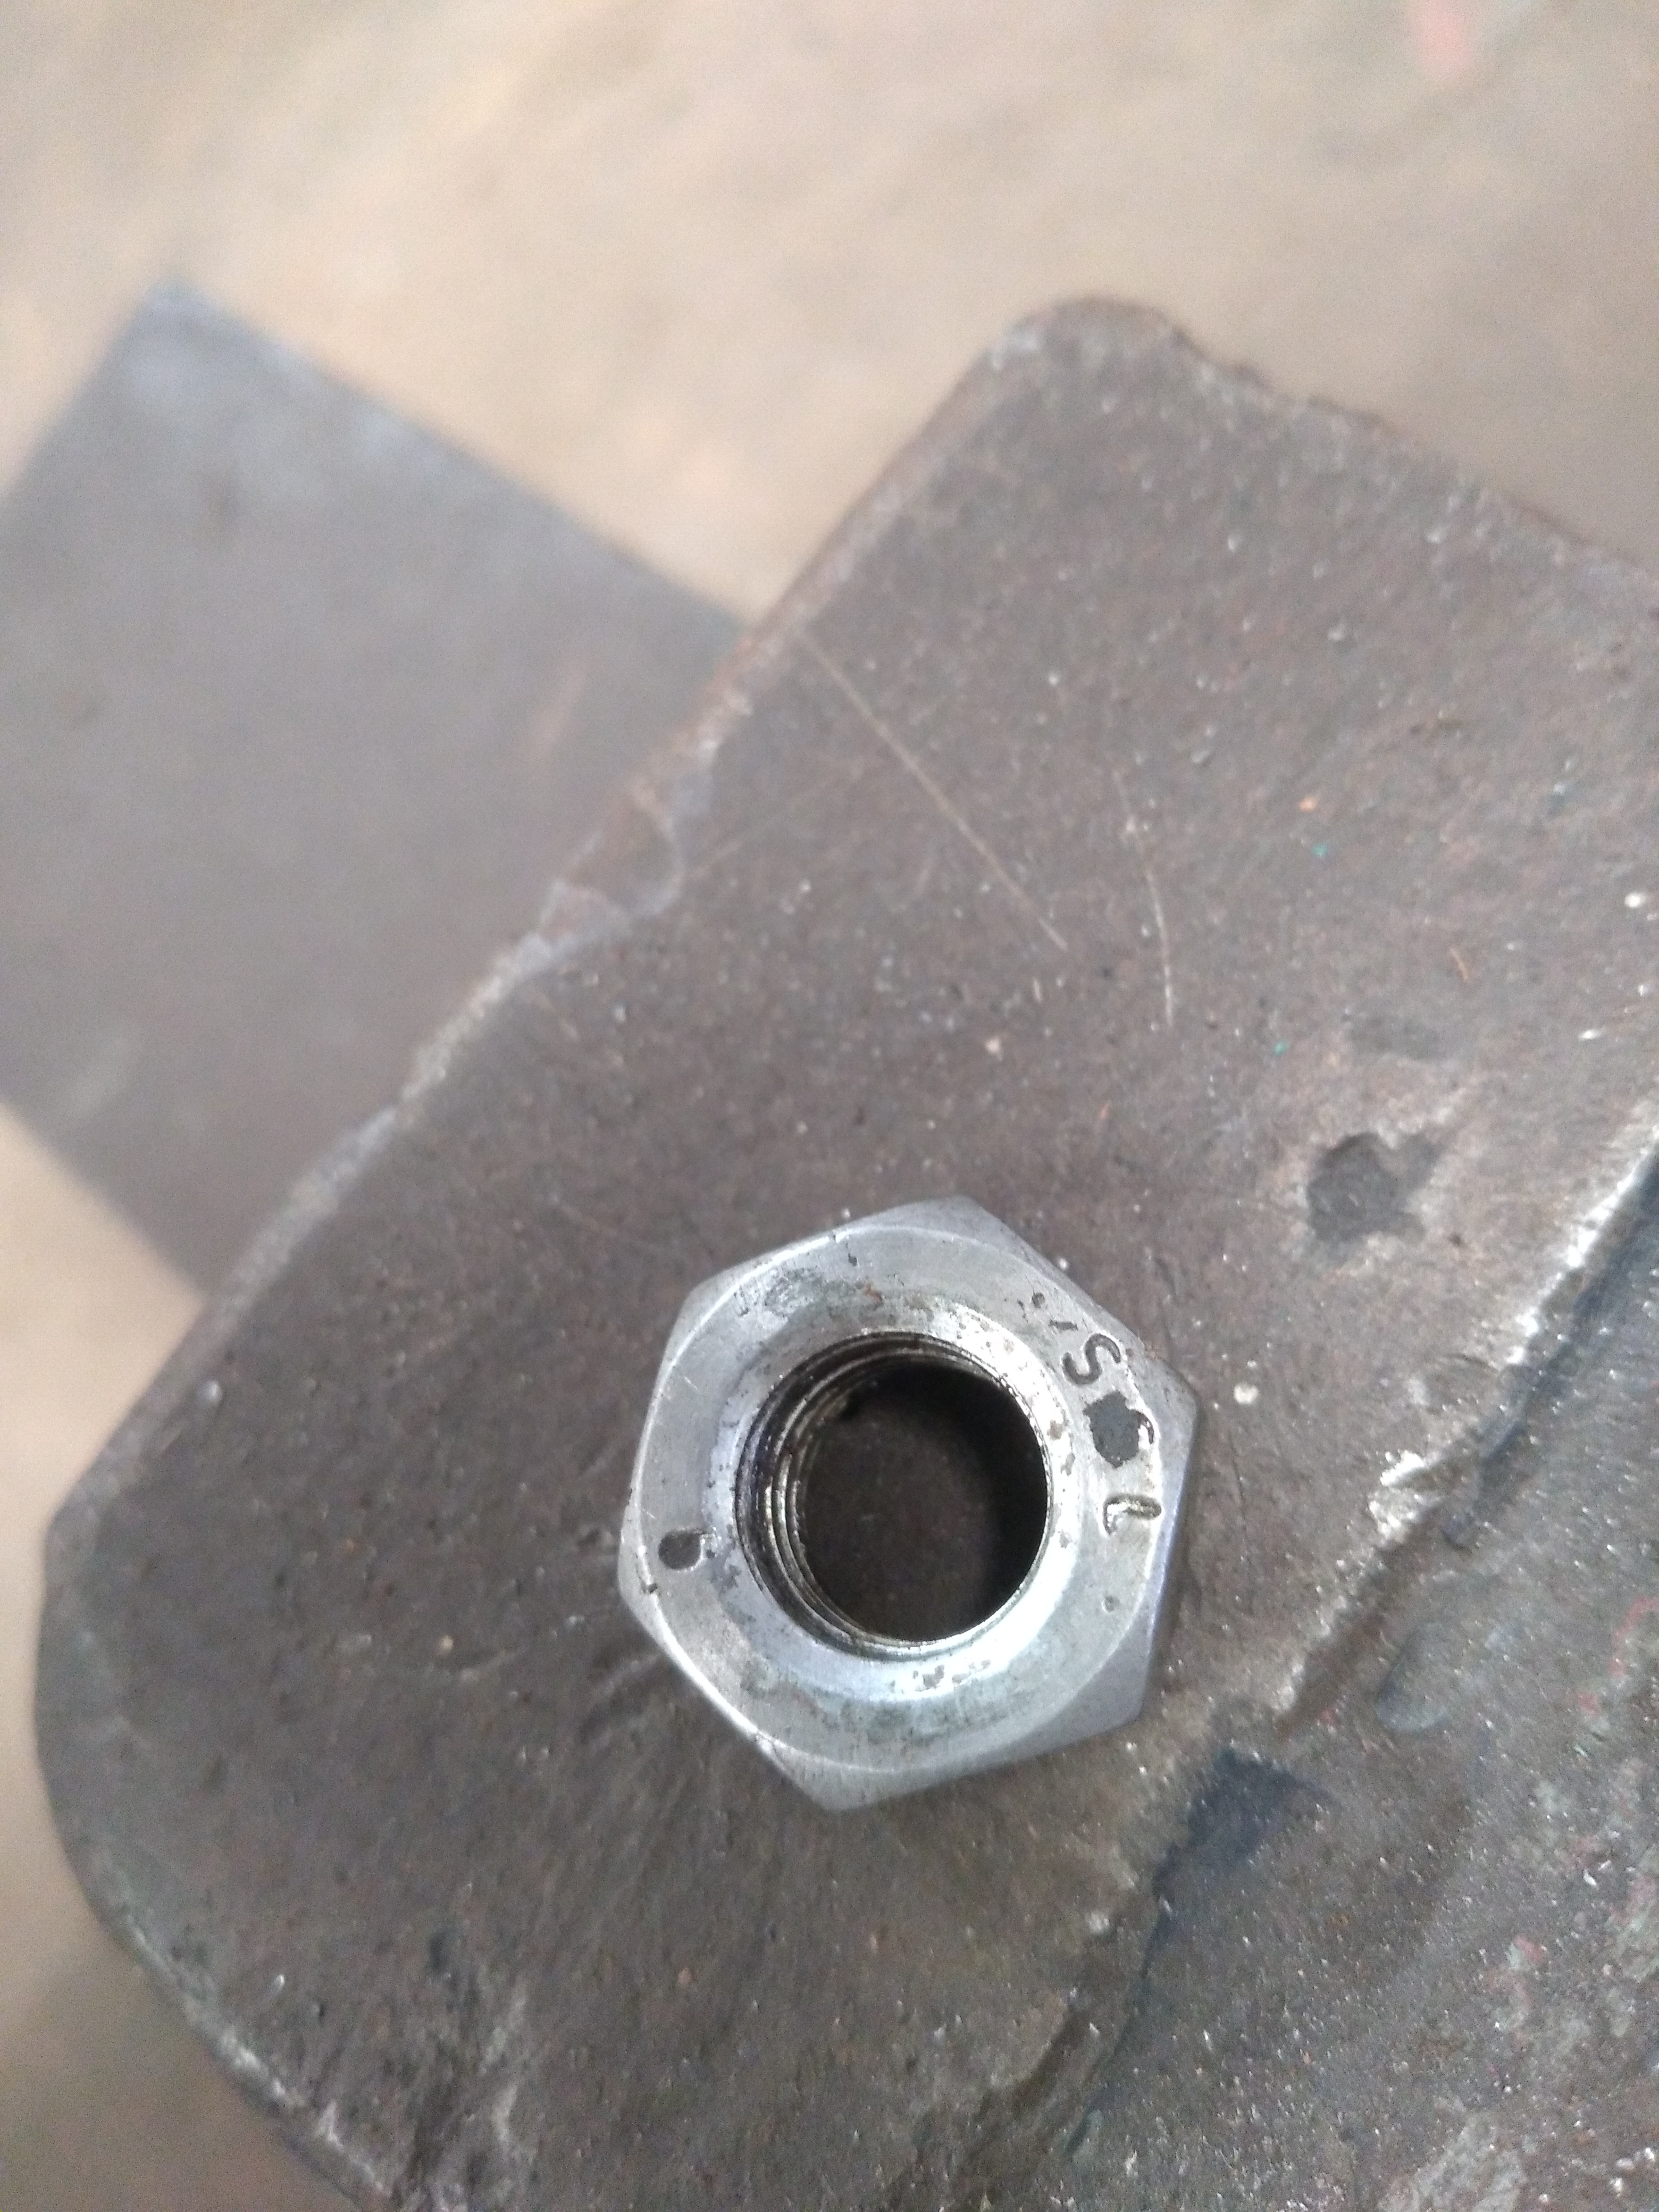Thread: (714, 1298, 1082, 1667)
